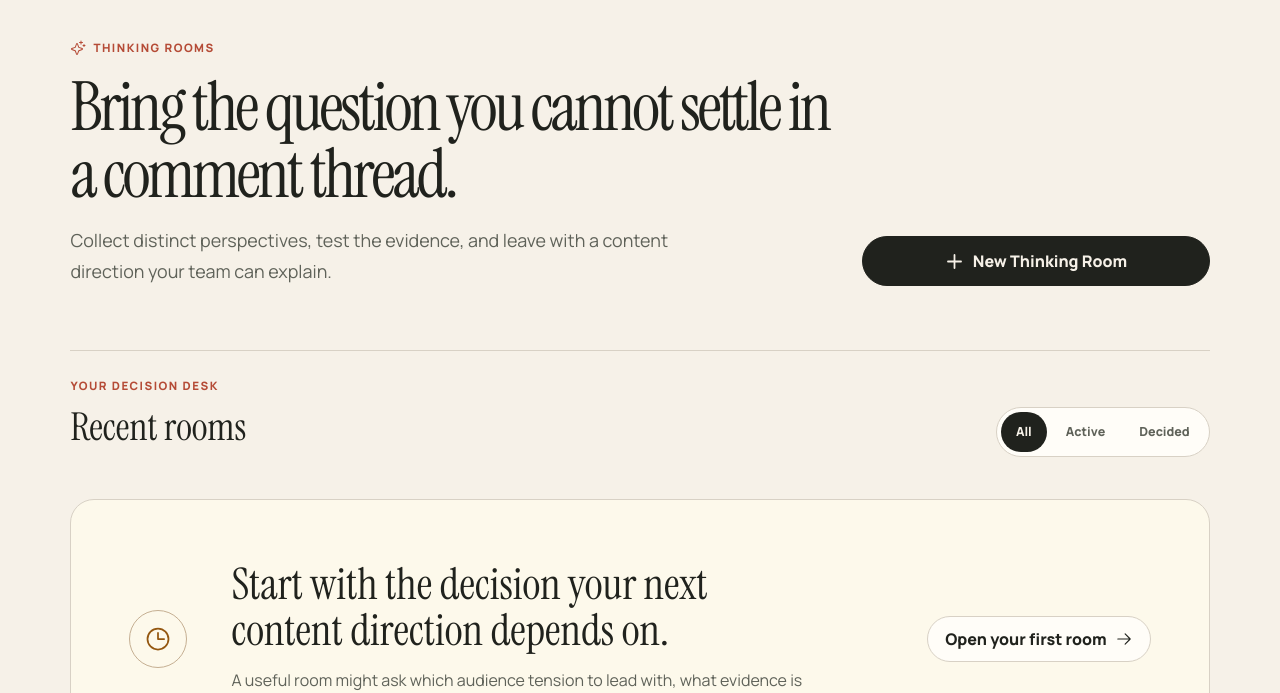
Test: Thinking Room library › offers a useful empty state and validates a strategic question
Expected: the heading "Bring the question you cannot settle in a comment thread." is shown, x1=70 y1=74 x2=830 y2=207
Expected: the heading "Start with the decision your next content direction depends on" is shown, x1=231 y1=556 x2=708 y2=658
Click the button "New Thinking Room".
click(1036, 261)  # box x1=862 y1=236 x2=1210 y2=286
(page scrolled)
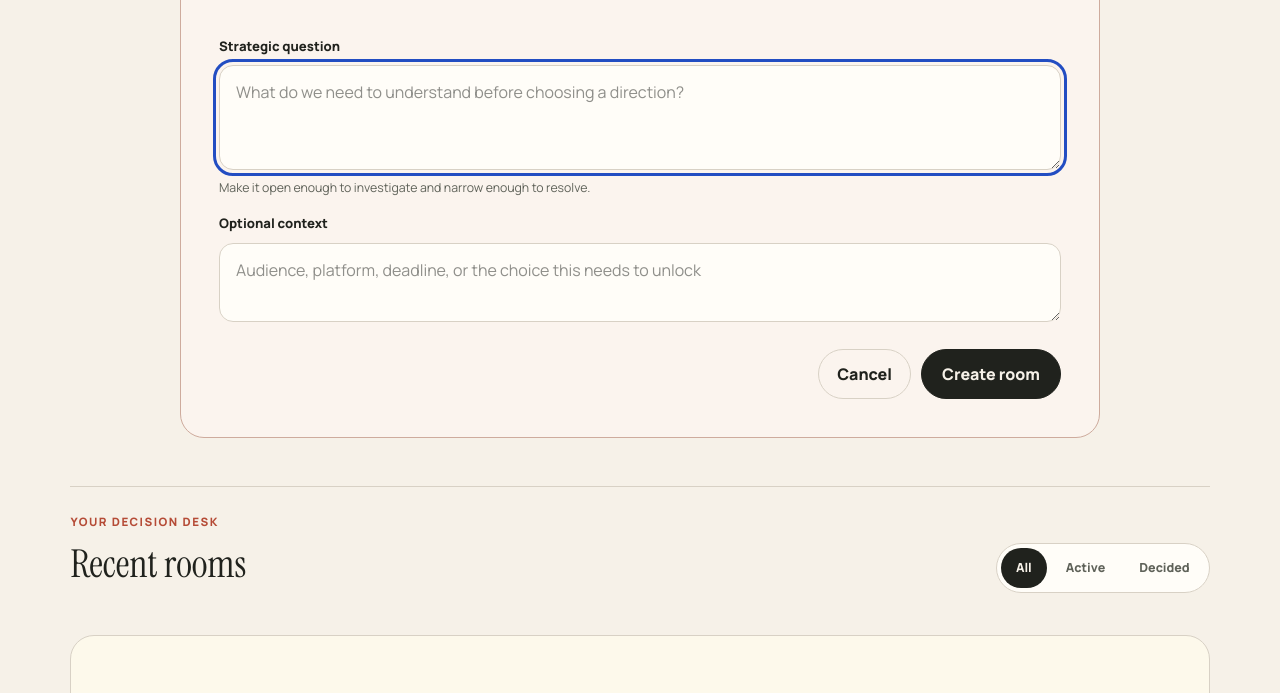
Click the button "Create room".
click(991, 374)  # box x1=921 y1=349 x2=1061 y2=399
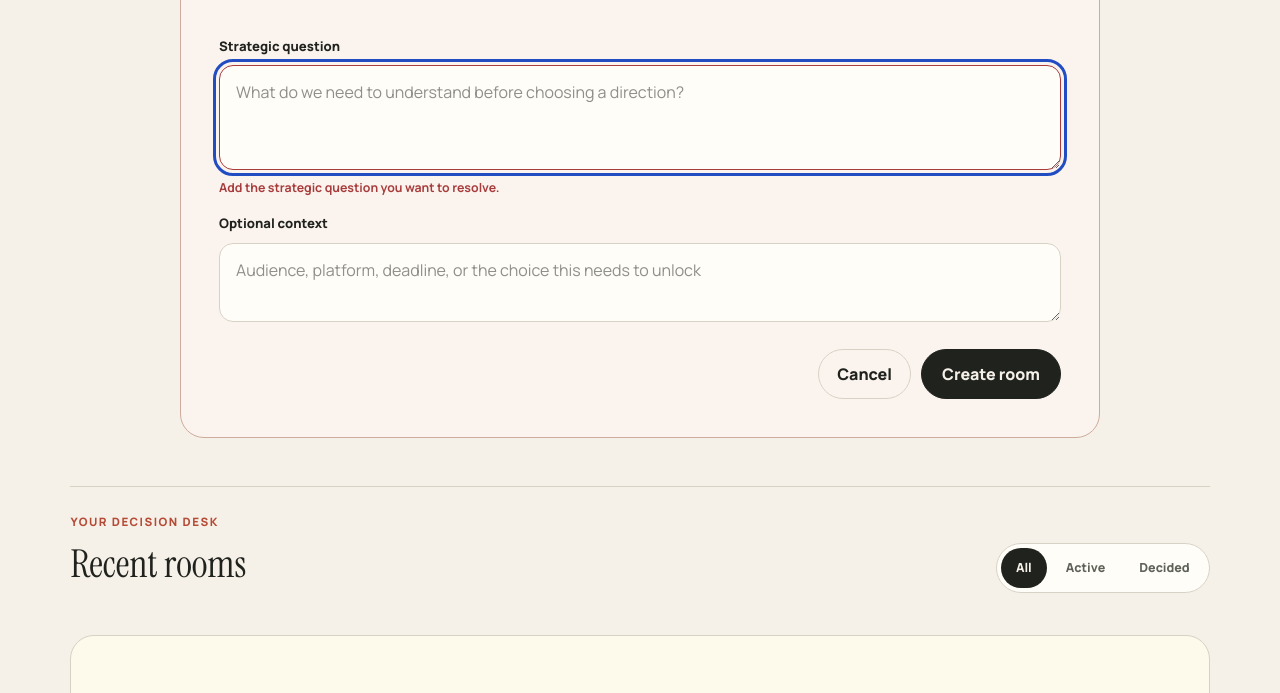
Expected: the text "Add the strategic question you want to resolve." is shown, x1=219 y1=179 x2=500 y2=196
